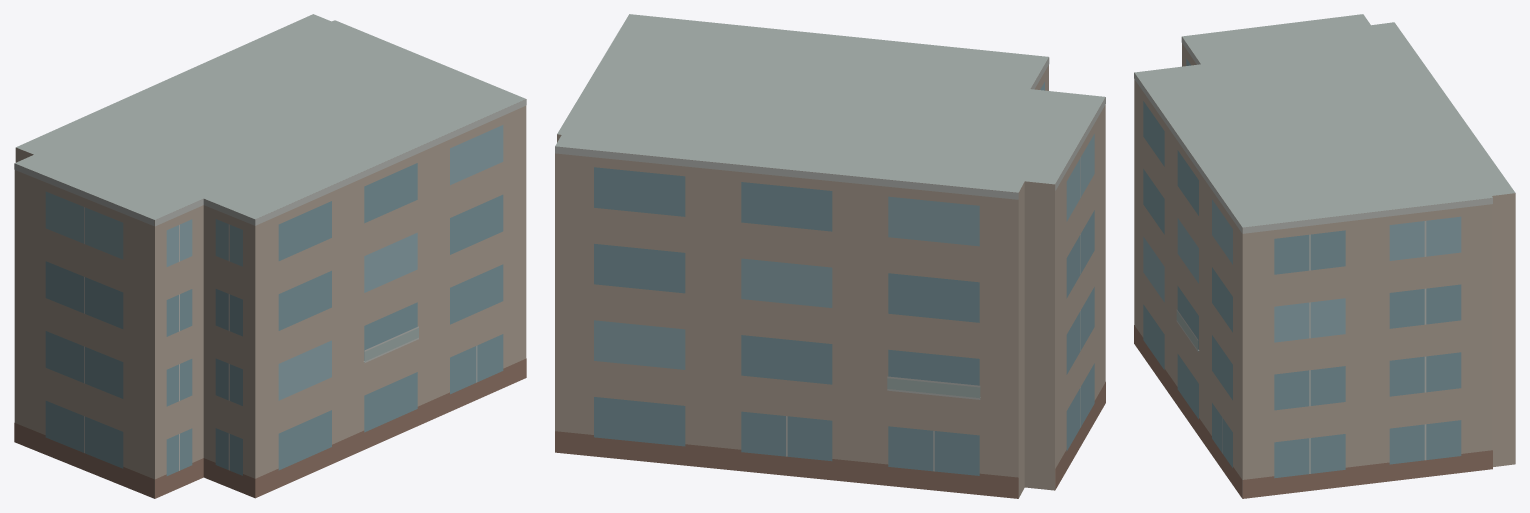
File: survey-upis-32979208.glb
The picture shows the model from 3 angles, left to right: view 1: azimuth 30°, elevation 25°; view 2: azimuth 150°, elevation 25°; view 3: azimuth 270°, elevation 25°; orthographic projection. The views are drawn at different scales.
Parts seen in each view (by area): view 1: survey-upis-32979208.tmp; view 2: survey-upis-32979208.tmp; view 3: survey-upis-32979208.tmp.
Boxes of the visible parts, left/top/right/bottom form: survey-upis-32979208.tmp: left=14, top=14, right=526, bottom=498; survey-upis-32979208.tmp: left=555, top=14, right=1105, bottom=498; survey-upis-32979208.tmp: left=1134, top=14, right=1515, bottom=498.
Size of the model in its own units: 17.74 by 10.5 by 13.39.
